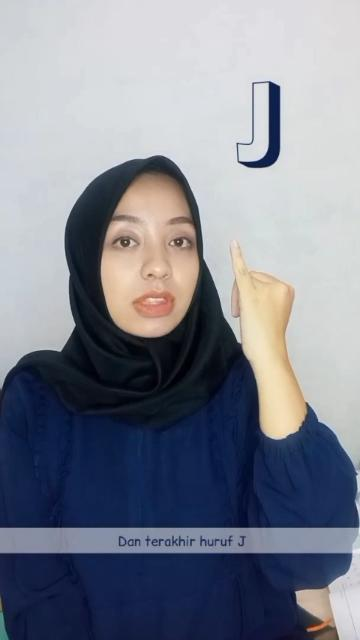J: (224, 241, 300, 353)
